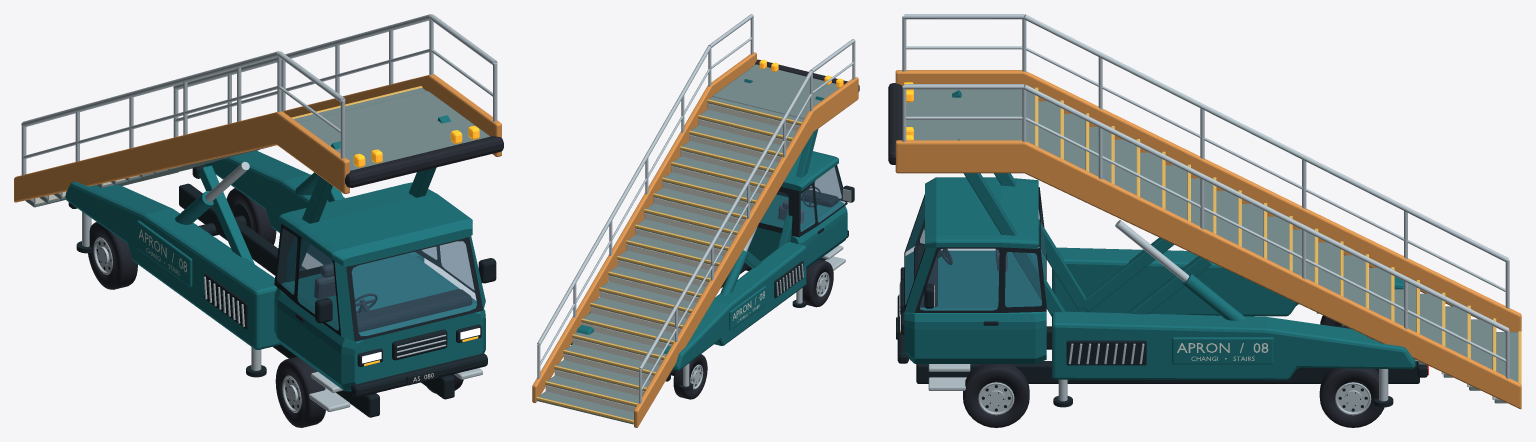
3 views of the same model, side by side, from view 1: azimuth 30°, elevation 25°; view 2: azimuth 150°, elevation 25°; view 3: azimuth 270°, elevation 25° (orthographic). The views are drawn at different scales.
Visible parts, largest first — view 1: Changi Apron Stairway; view 2: Changi Apron Stairway; view 3: Changi Apron Stairway.
Part boxes in pixels (box(x1,y1,x2,y2)): Changi Apron Stairway: box(14, 14, 503, 427); Changi Apron Stairway: box(532, 14, 859, 427); Changi Apron Stairway: box(888, 14, 1521, 427).
Bounding box in the file's own units: 2.25 × 4.37 × 7.3.
